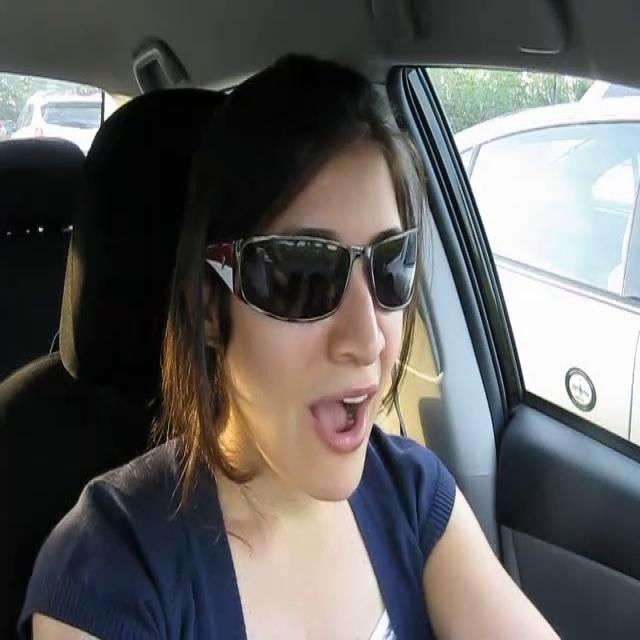open: (308, 382, 381, 454)
